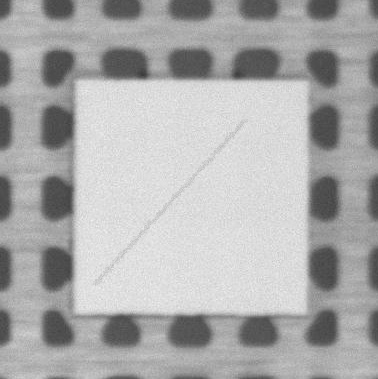DIE_CRACK: (95, 121, 244, 285)
